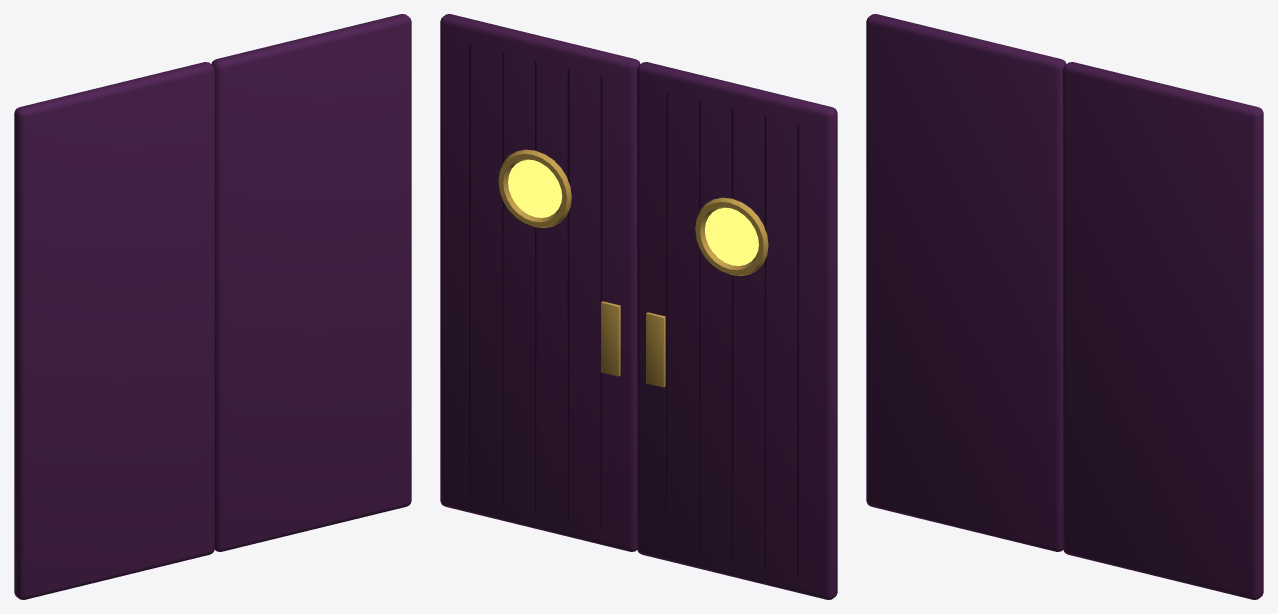
The model's file is doors.glb.
The picture shows the model from 3 angles, left to right: view 1: azimuth 30°, elevation 25°; view 2: azimuth 150°, elevation 25°; view 3: azimuth 330°, elevation 25°; orthographic projection.
Parts seen in each view (by area): view 1: door-left, door-right; view 2: door-left, door-right; view 3: door-right, door-left.
Boxes of the visible parts, <box> form: door-left: <box>14,62,214,599</box>; door-right: <box>211,14,411,551</box>; door-left: <box>637,62,837,599</box>; door-right: <box>440,14,640,551</box>; door-right: <box>1063,62,1263,599</box>; door-left: <box>866,14,1066,551</box>.
Bounding box in the file's own units: 2.1 × 2.5 × 0.1117.
